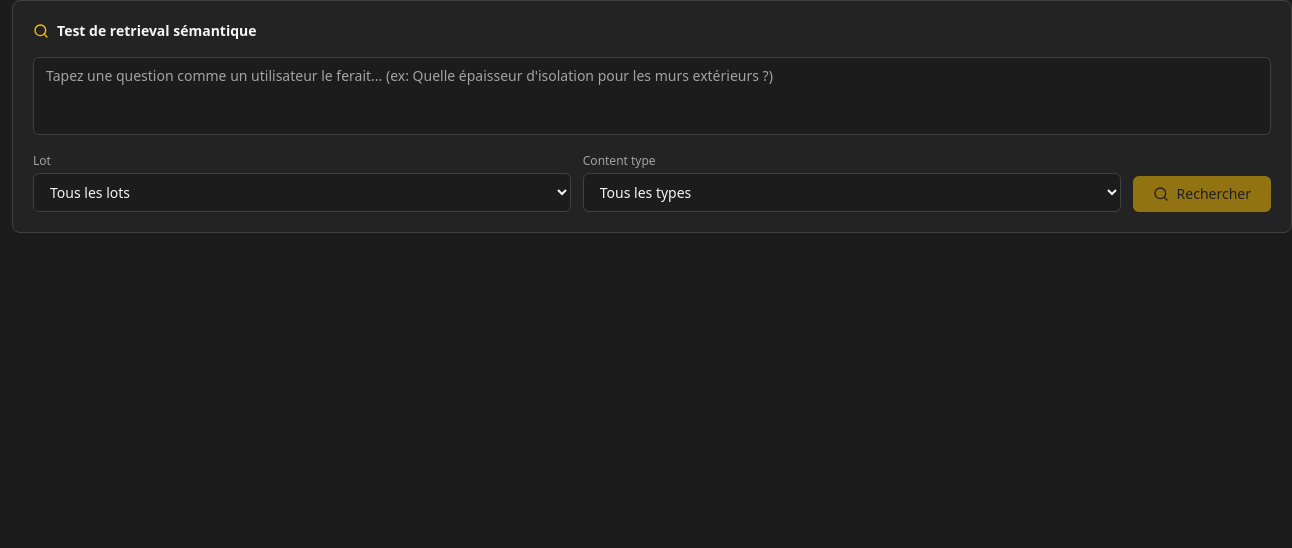
Test: RetrievalPlayground — expand / collapse › cliquer sur Voir le texte complet affiche le texte intégral et change le libellé en Réduire
In the text box: (652, 96) [33,57,1271,135], type "épaisseur isolation"
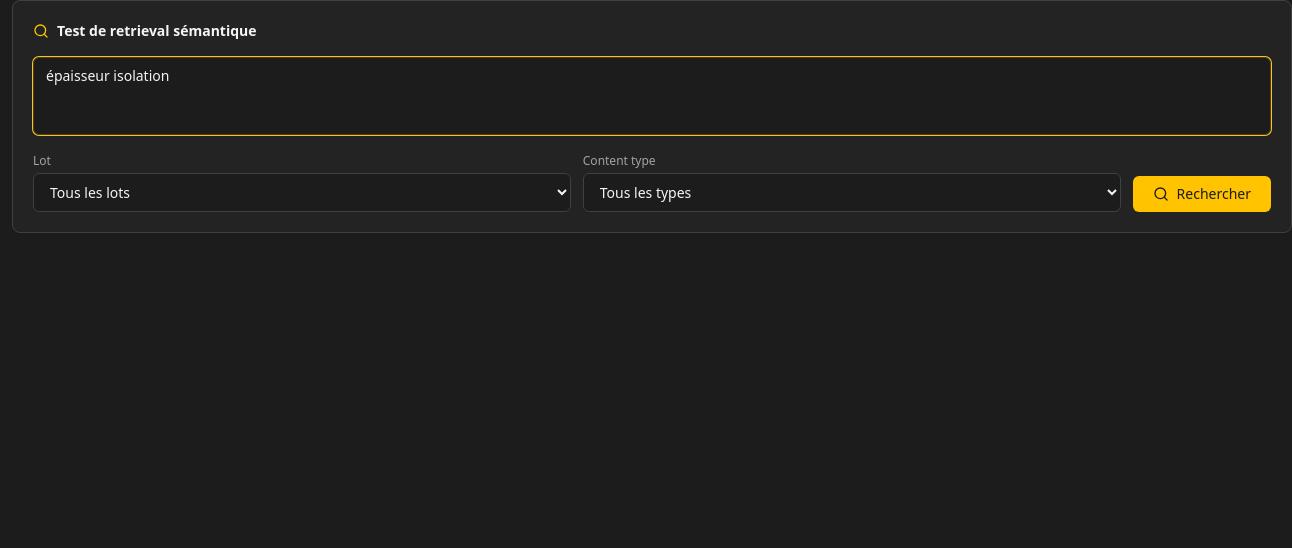
Click the button "Rechercher": click(1202, 194) [1133,176,1271,212]
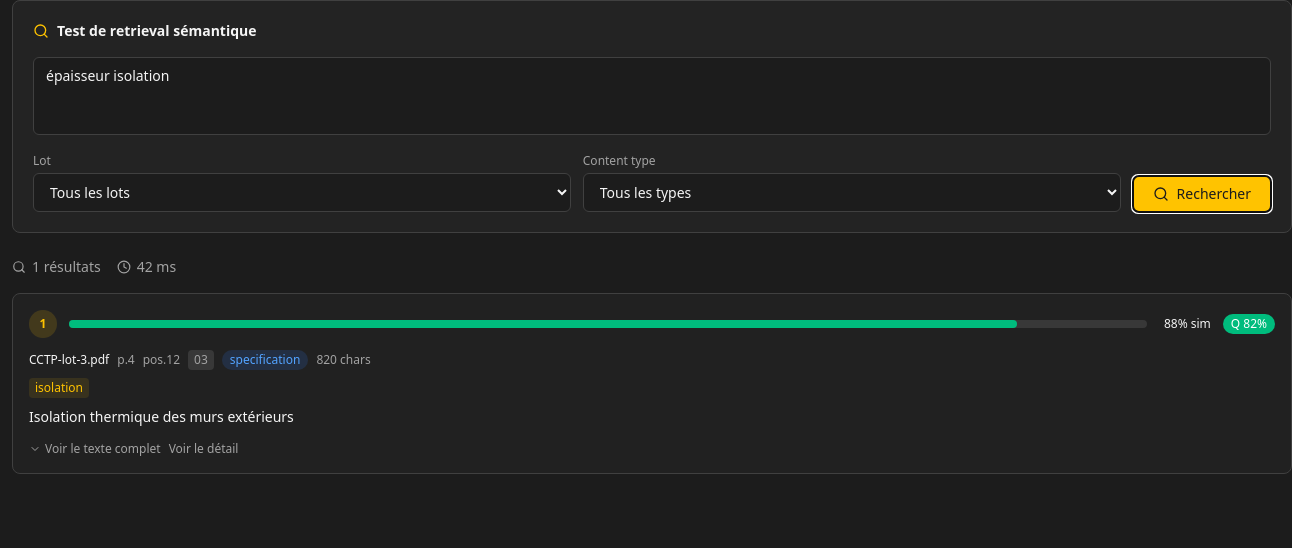
Now the text "CCTP-lot-3.pdf" is shown, box [29,352,109,368]
Click the button "Voir le texte complet": click(95, 449) [29,441,161,457]
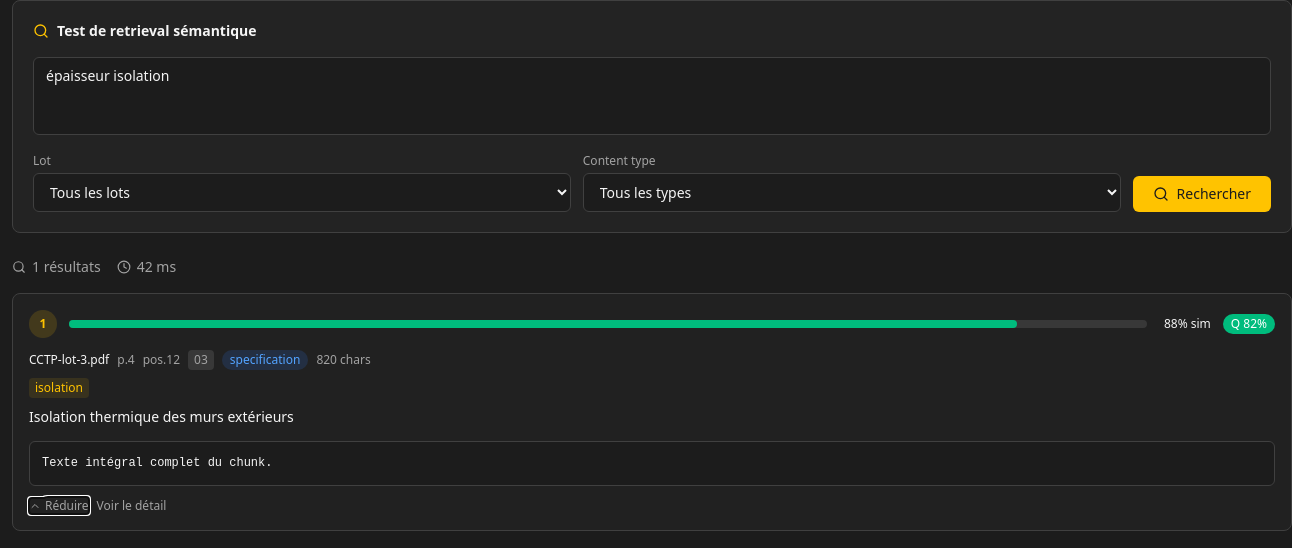
Now the text "Texte intégral complet du chunk." is shown, box [29,441,1275,486]
Now the button "Réduire" is shown, box [29,498,89,514]
